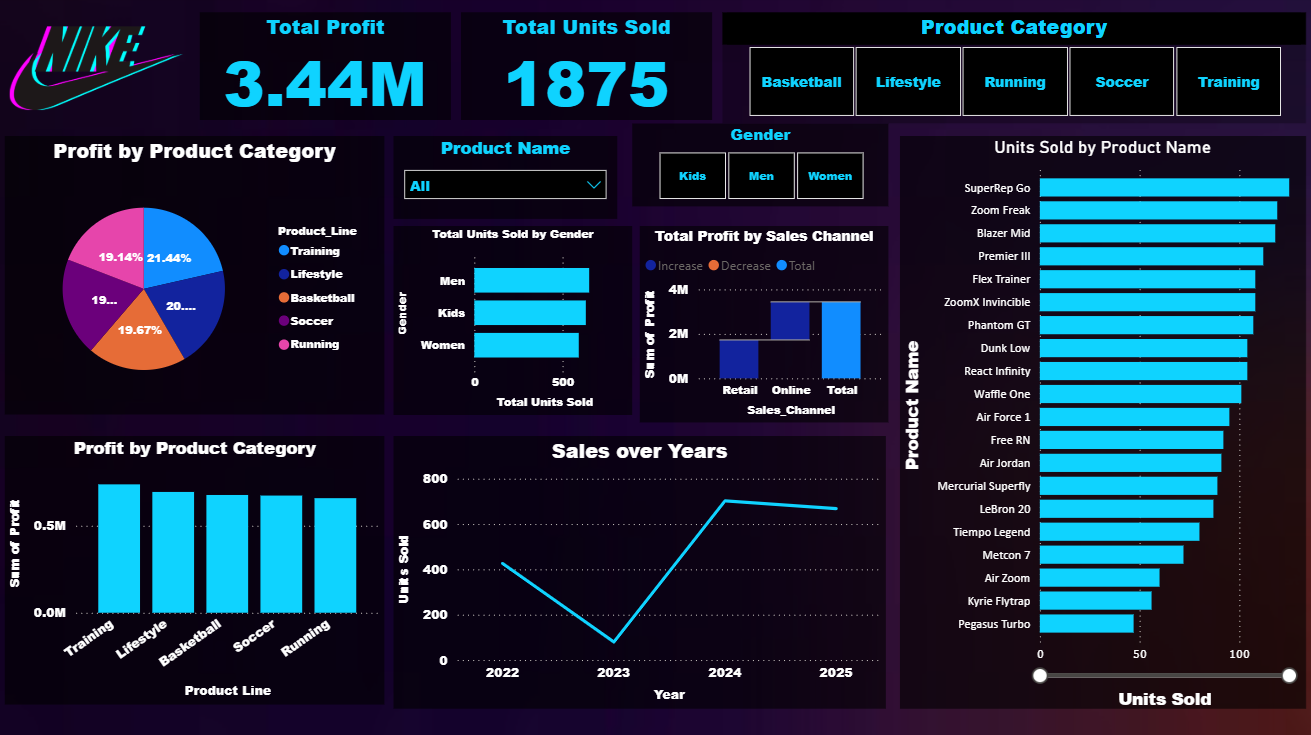

Layout of this report page (visuals, bound fields, positions):
{"tool":"powerbi","page":{"name":"Page 1","canvas":[1280,720],"ordinal":0},"visuals":[{"type":"card","title":"Total Profit","fields":{"Values":["Sum(Nike_Sales_Uncleaned.Profit)"]},"box":[196.6,15.7,242.5,103.8],"z":0},{"type":"image","box":[8.4,15.7,177.3,107.4],"z":1000},{"type":"card","title":"Total Units Sold","fields":{"Values":["Sum(Nike_Sales_Uncleaned.Units_Sold)"]},"box":[448.8,15.7,242.5,103.8],"z":2000},{"type":"slicer","title":"Product Category","fields":{"Values":["Nike_Sales_Uncleaned.Product_Line"]},"box":[700.9,15.7,563.4,107.4],"z":3000},{"type":"lineChart","title":"Sales over Years","fields":{"Category":["Nike_Sales_Uncleaned.Sales Year.Variation.Date Hierarchy.Year"],"Y":["Sum(Nike_Sales_Uncleaned.Units_Sold)"]},"box":[383.6,424.7,475.3,263],"z":4000},{"type":"slicer","title":"Product Name","fields":{"Values":["Nike_Sales_Uncleaned.Product_Name"]},"box":[383.6,135.1,216,79.6],"z":5000},{"type":"clusteredBarChart","title":"Units Sold by Product Name","fields":{"Y":["Sum(Nike_Sales_Uncleaned.Units_Sold)"],"Category":["Nike_Sales_Uncleaned.Product_Name"]},"box":[872.3,135.1,392.1,552.5],"z":6000},{"type":"pieChart","title":"Profit by Product Category","fields":{"Category":["Nike_Sales_Uncleaned.Product_Line"],"Y":["Sum(Nike_Sales_Uncleaned.Profit)"]},"box":[8.4,135.1,366.8,269],"z":7000},{"type":"columnChart","title":"Profit by Product Category","fields":{"Category":["Nike_Sales_Uncleaned.Product_Line"],"Y":["Sum(Nike_Sales_Uncleaned.Profit)"]},"box":[8.4,424.7,366.8,259.4],"z":8000},{"type":"waterfallChart","title":"Total Profit by Sales Channel","fields":{"Category":["Nike_Sales_Uncleaned.Sales_Channel"],"Y":["Sum(Nike_Sales_Uncleaned.Profit)"]},"box":[621.3,222,240.1,189.4],"z":9000},{"type":"barChart","title":"Total Units Sold by Gender","fields":{"Y":["Sum(Nike_Sales_Uncleaned.Units_Sold)"],"Category":["Nike_Sales_Uncleaned.Gender_Category"]},"box":[383.6,222,230.4,182.2],"z":10000},{"type":"slicer","title":"Gender","fields":{"Values":["Nike_Sales_Uncleaned.Gender_Category"]},"box":[614.1,123.1,247.3,79.6],"z":11000}]}

Visuals, with their boxes in screenshot pixels (x1, y1, x2, y2), scaled from the page's 1280x720 canvas onto the 1311x735 screenshot:
"Total Profit" card: <box>201,16,450,122</box>
image: <box>9,16,190,126</box>
"Total Units Sold" card: <box>460,16,708,122</box>
"Product Category" slicer: <box>718,16,1295,126</box>
"Sales over Years" lineChart: <box>393,434,880,702</box>
"Product Name" slicer: <box>393,138,614,219</box>
"Units Sold by Product Name" clusteredBarChart: <box>893,138,1295,702</box>
"Profit by Product Category" pieChart: <box>9,138,384,413</box>
"Profit by Product Category" columnChart: <box>9,434,384,698</box>
"Total Profit by Sales Channel" waterfallChart: <box>636,227,882,420</box>
"Total Units Sold by Gender" barChart: <box>393,227,629,413</box>
"Gender" slicer: <box>629,126,882,207</box>
